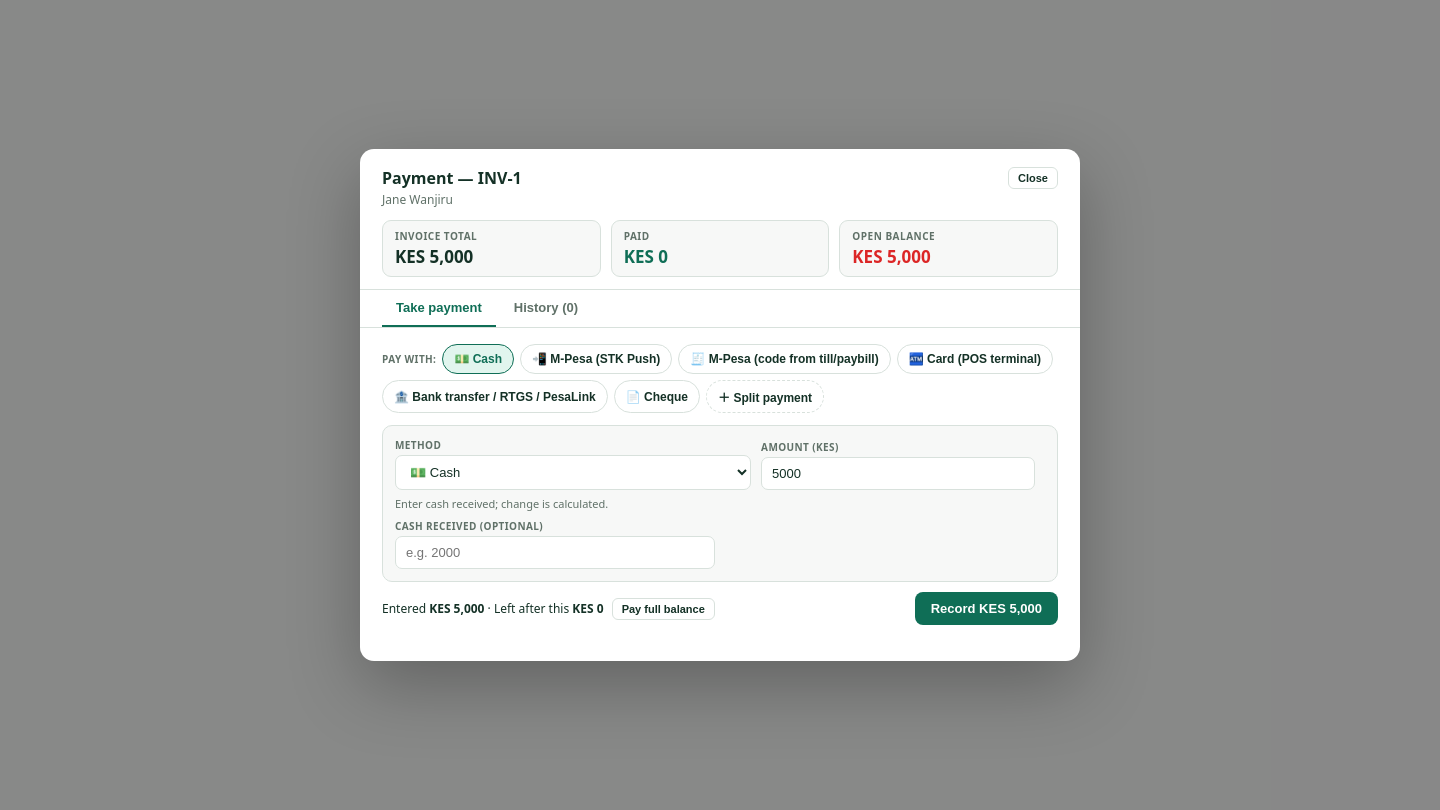
Test: PaymentModal › refuses to overpay
Replace the text in the field with placeholder "0" with "5001" at (898, 474), box top-left (761, 457), bottom-right (1035, 490)
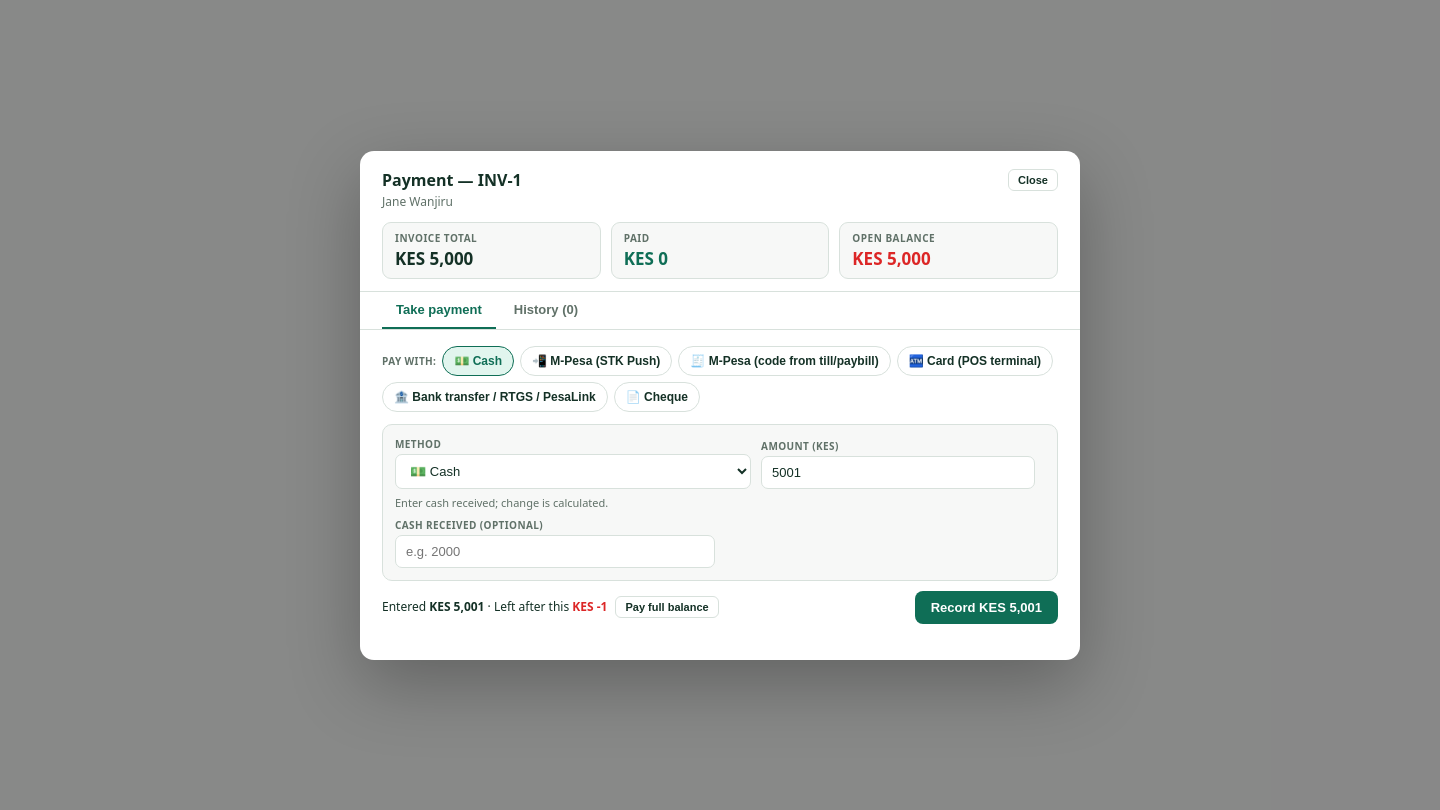
Click the button "Record KES 5,001" at (986, 607), box top-left (915, 590), bottom-right (1058, 624)
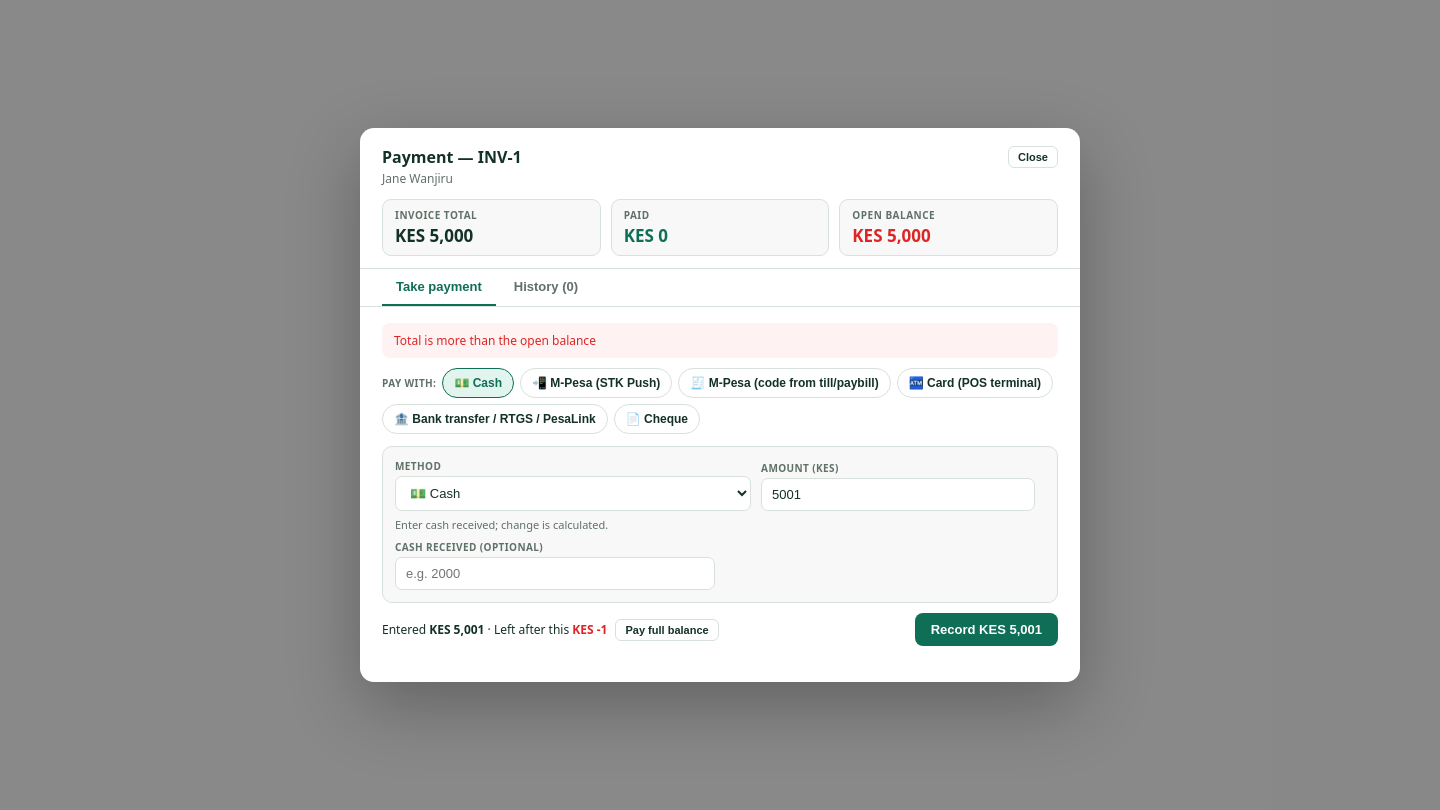
Now the text "Total is more than the open balance" is shown, box top-left (382, 323), bottom-right (1058, 358)
